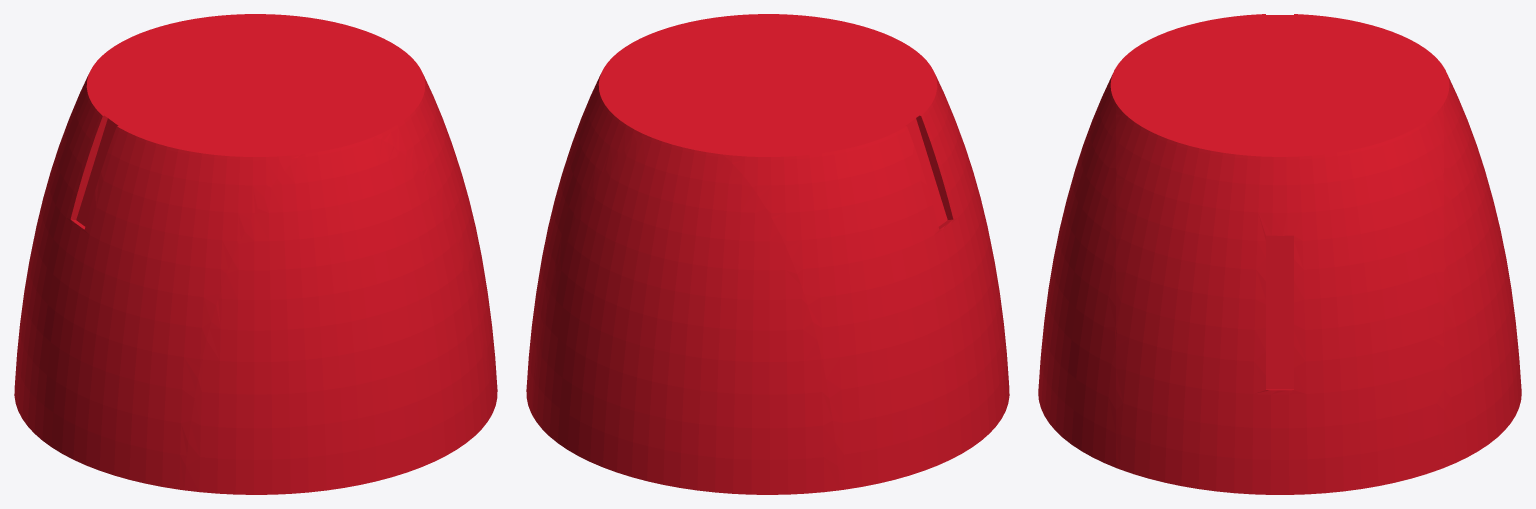
File: NaroBody_2_v2.dae
3 views of the same model, side by side, from view 1: azimuth 30°, elevation 25°; view 2: azimuth 150°, elevation 25°; view 3: azimuth 270°, elevation 25° (orthographic).
Parts seen in each view (by area): view 1: NaroBody_2; view 2: NaroBody_2; view 3: NaroBody_2.
Boxes of the visible parts, x1,y1,x2,y2 form: NaroBody_2: [14, 14, 497, 494]; NaroBody_2: [526, 14, 1009, 494]; NaroBody_2: [1038, 14, 1521, 494].
Bounding box in the file's own units: 0.1031 × 0.1032 × 0.0724.
